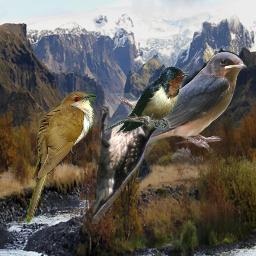Cuckoo: (25, 91, 97, 224)
Swallow: (121, 51, 247, 153), (104, 66, 189, 133)
Woodpecker: (92, 93, 162, 224)
